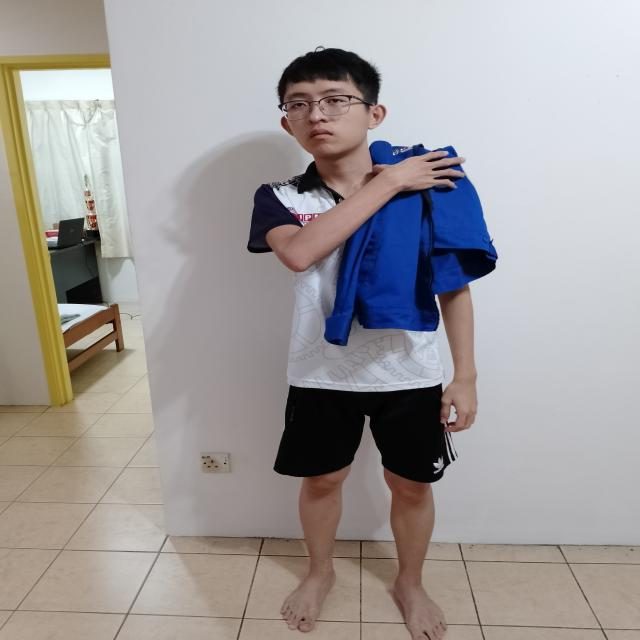person_without_labcoat: (248, 49, 496, 640)
